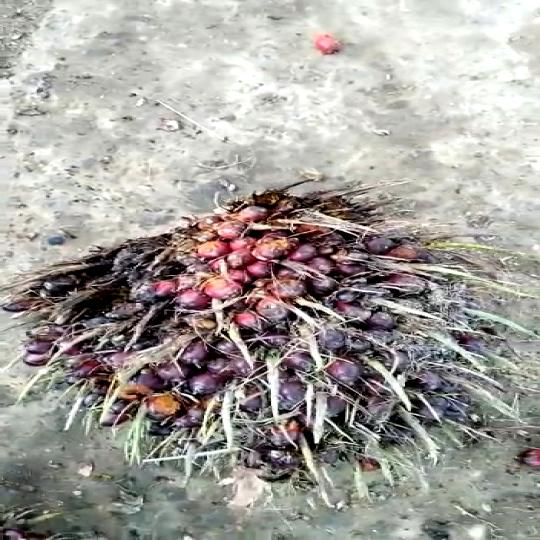masak: (7, 187, 540, 482)
